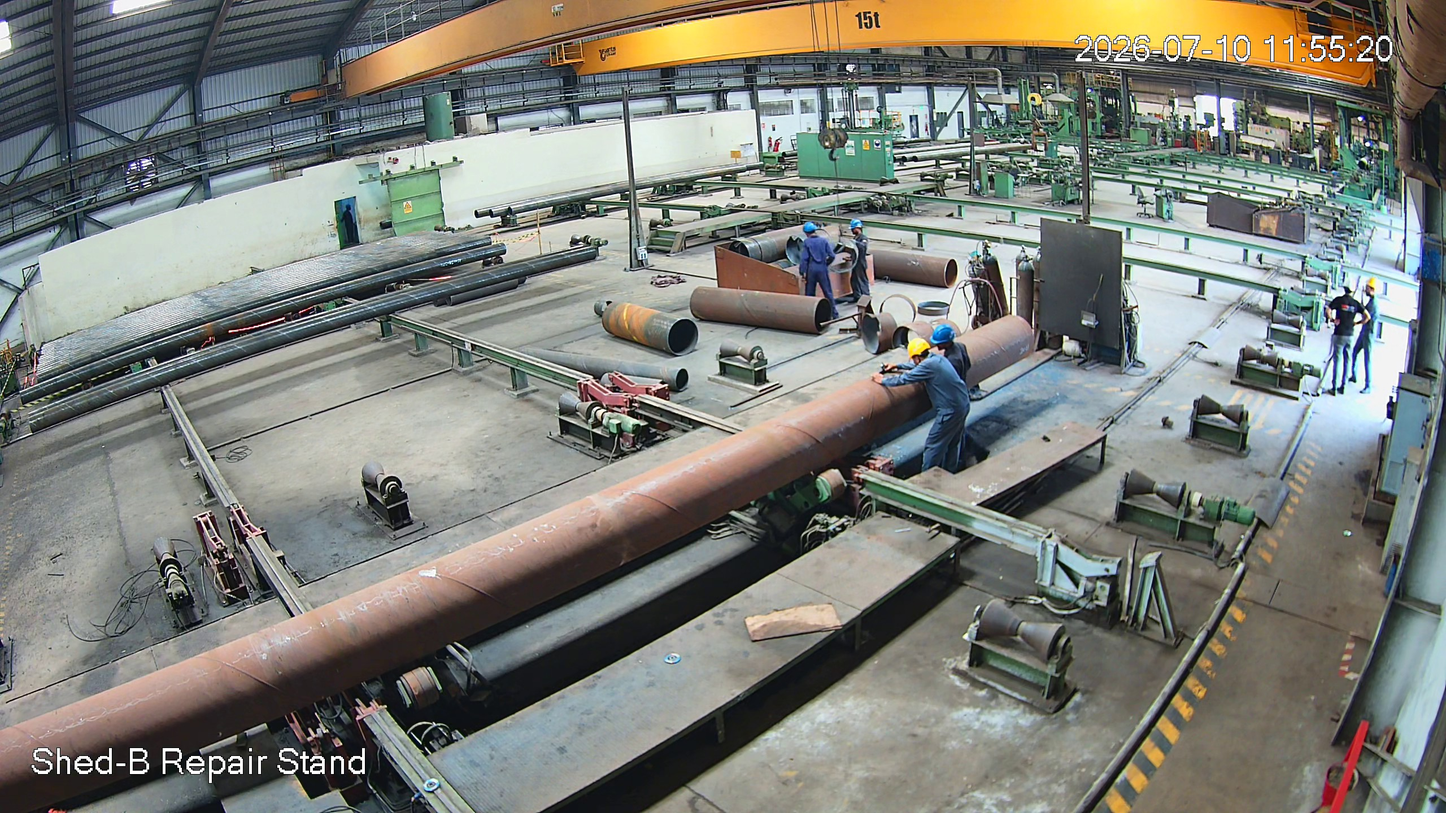Helmet: (902, 336, 933, 382), (924, 321, 958, 359), (798, 218, 824, 249), (845, 214, 869, 246), (1364, 271, 1382, 308)
Person: (885, 339, 955, 474), (1355, 272, 1390, 413), (793, 221, 835, 323), (1333, 276, 1360, 404), (931, 321, 962, 414), (843, 217, 874, 309)
